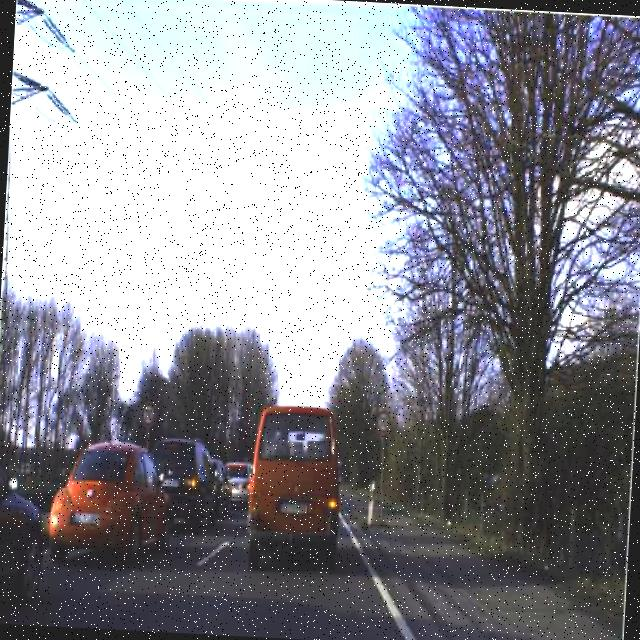Ograniczenie predkosci do 70: (137, 398, 159, 430), (374, 407, 394, 435)
